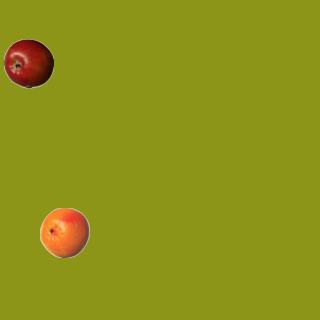Apple Braeburn: (3, 38, 53, 88)
Grapefruit Pink: (39, 207, 89, 257)
